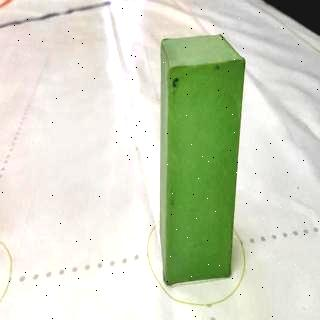greenbox: (159, 31, 248, 286)
